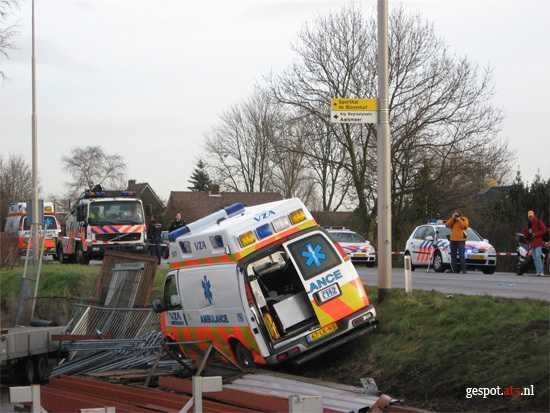Ambulance: (126, 183, 380, 353)
